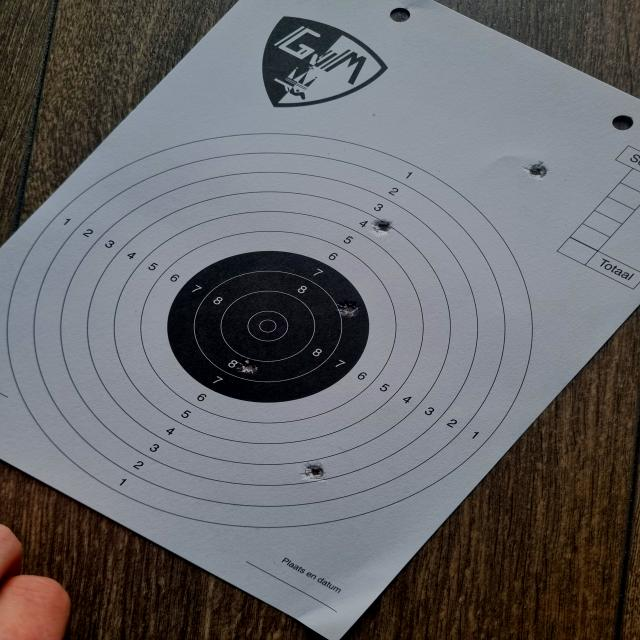0: (523, 160, 548, 178)
3: (300, 462, 324, 480)
4: (370, 220, 394, 234)
8: (335, 300, 360, 316), (237, 356, 258, 374)
Target: (7, 133, 536, 530)
black_contour: (166, 251, 368, 403)
